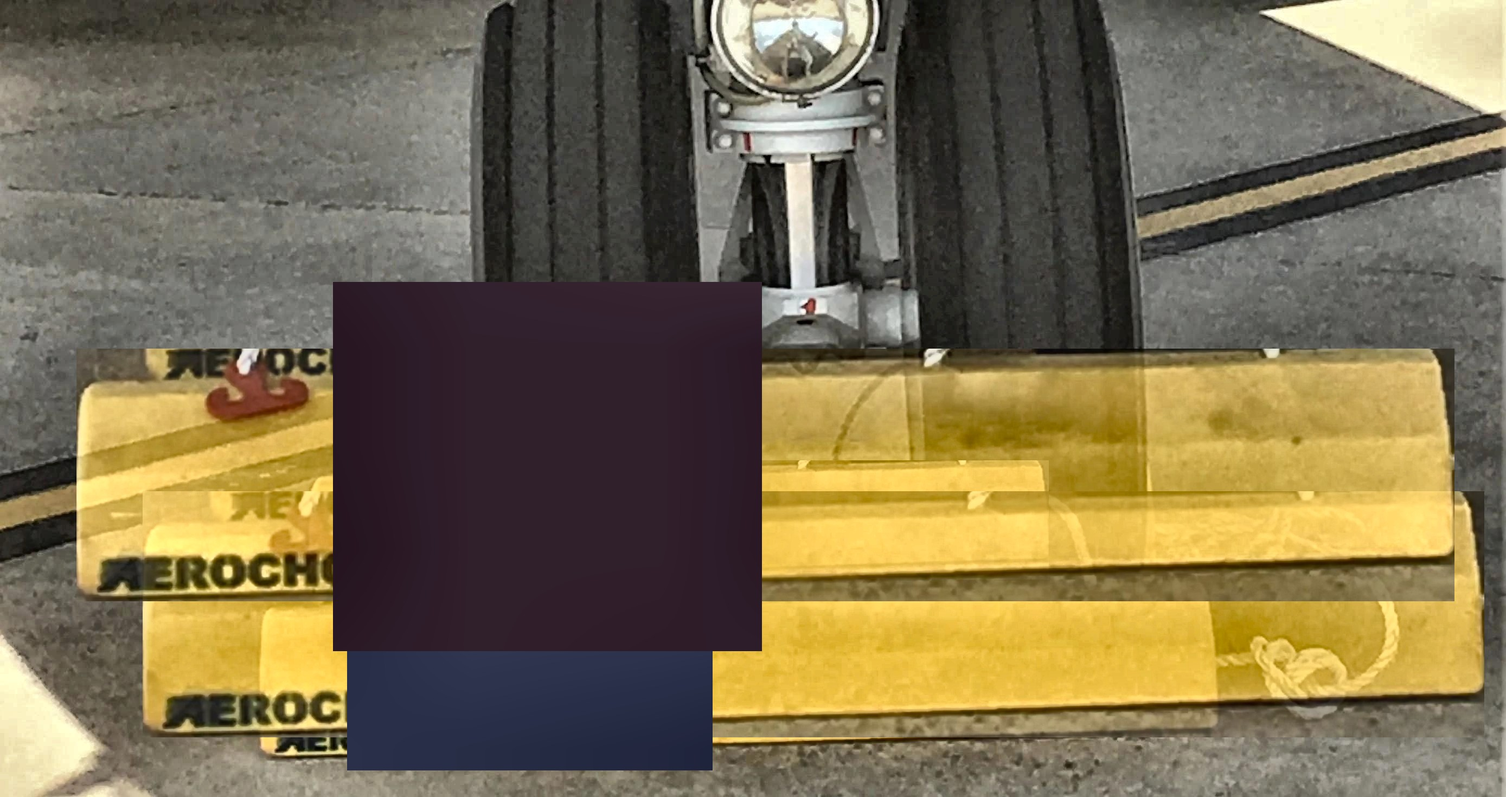chock: (76, 349, 1454, 601), (143, 491, 1484, 737), (260, 583, 1218, 759), (306, 466, 1161, 601), (398, 460, 1049, 580)
wheel: (890, 4, 1144, 587), (471, 0, 707, 599)
